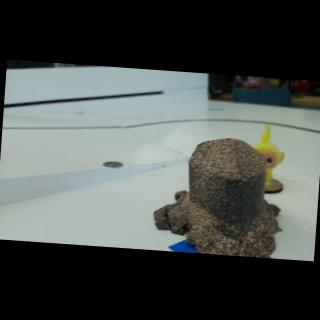teletubby: (253, 124, 284, 185)
